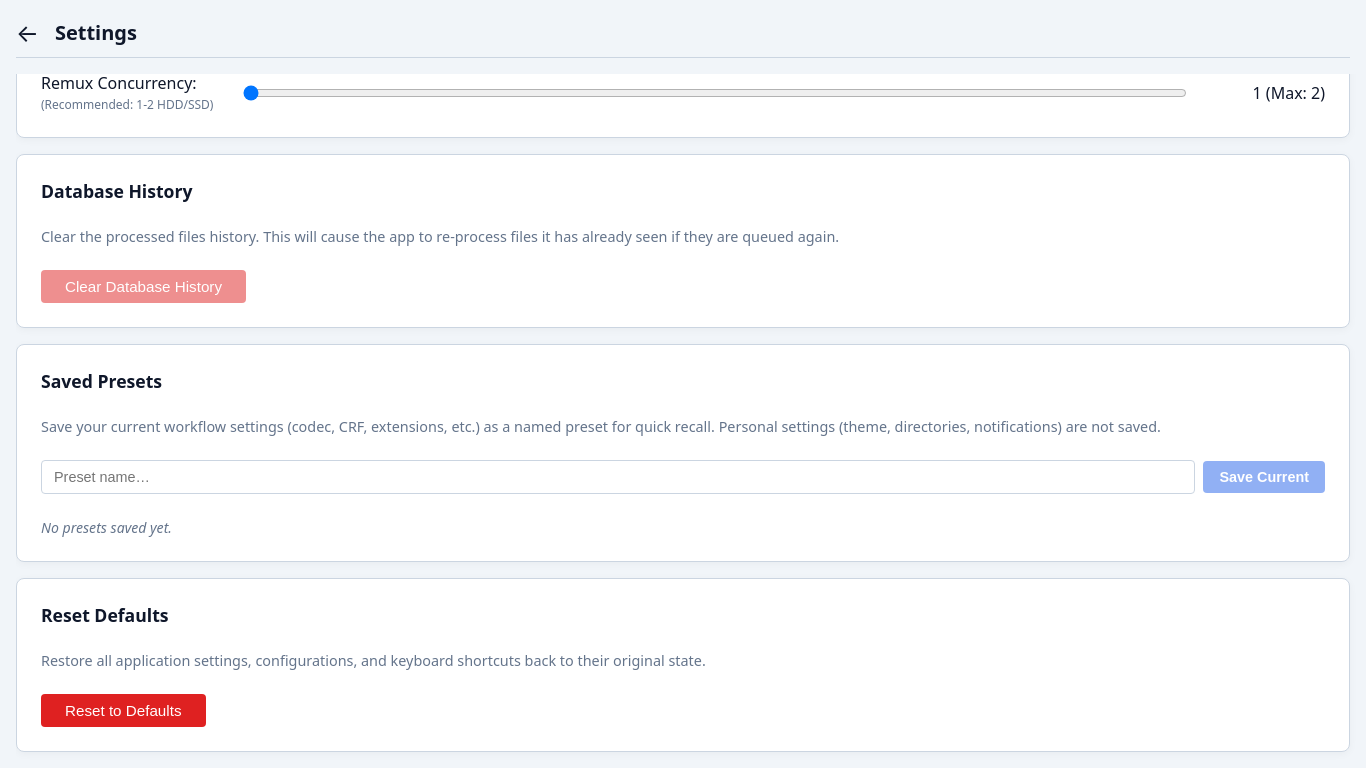
it: Settings Page - Keyboard Shortcuts › Settings Page - Modals › Settings Page - Presets › can save a new preset using Enter key
The image size is (1366, 768).
(page scrolled)
In the field with placeholder "Preset name…": (618, 477) x1=41 y1=460 x2=1195 y2=494, type "Enter Preset"
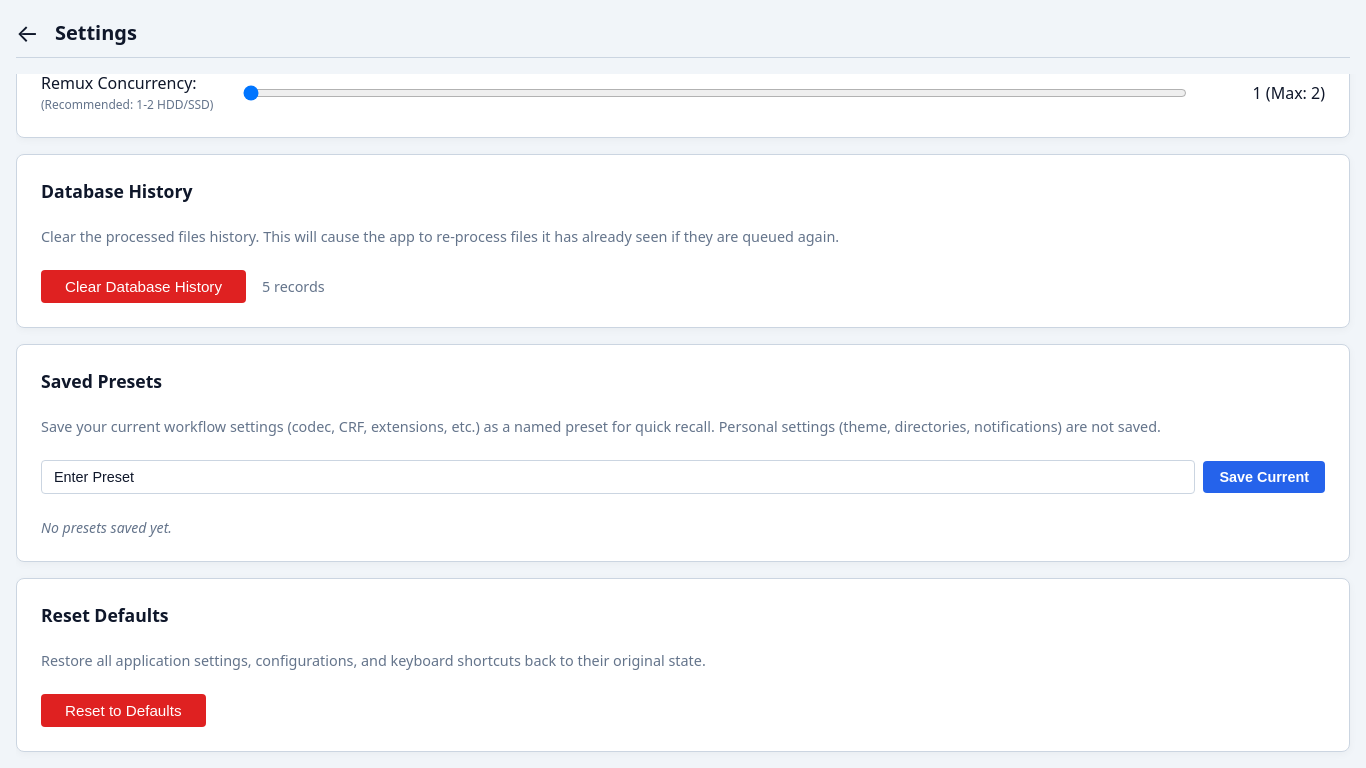
Press Enter in the field with placeholder "Preset name…", box x1=41 y1=460 x2=1195 y2=494
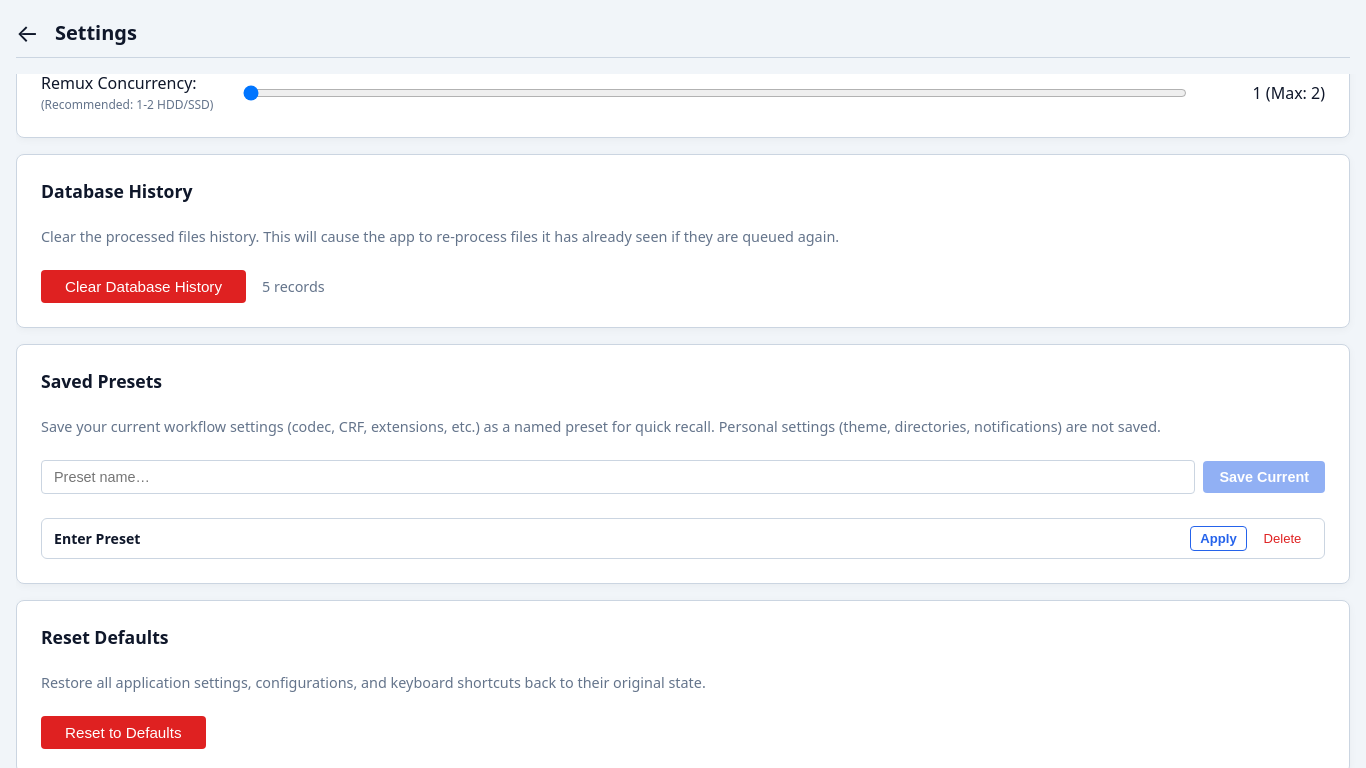
Check: the text "Enter Preset" is shown, box x1=54 y1=529 x2=140 y2=548
